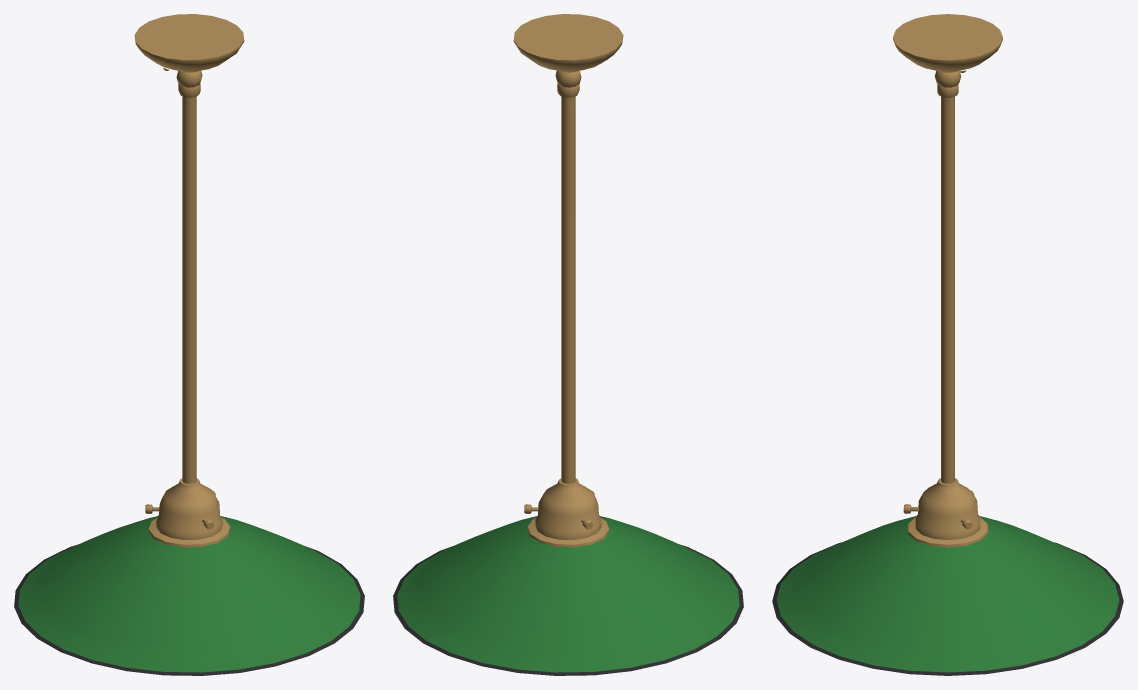
Rendered from archive_pendant.glb.
3 views of the same model, side by side, from view 1: azimuth 30°, elevation 25°; view 2: azimuth 150°, elevation 25°; view 3: azimuth 270°, elevation 25° (orthographic).
Parts seen in each view (by area): view 1: pendant_body; view 2: pendant_body; view 3: pendant_body.
Boxes of the visible parts, x1,y1,x2,y2 form: pendant_body: (14, 14, 364, 675); pendant_body: (393, 14, 743, 675); pendant_body: (772, 14, 1123, 675).
Size of the model in its own units: 0.4224 by 0.75 by 0.4224.
